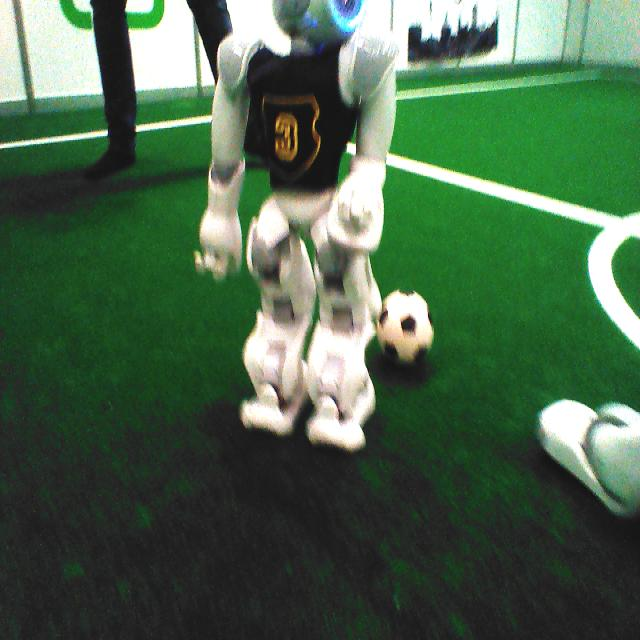ball: (374, 286, 436, 366)
